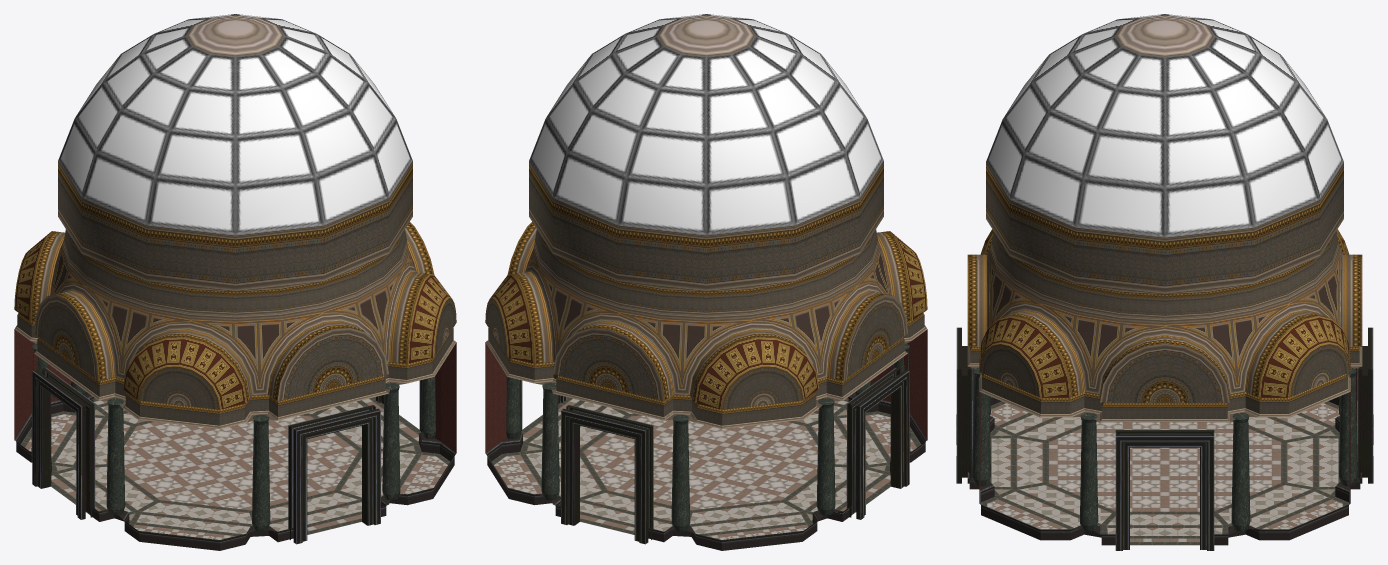
File: Room_Circular.dae
The picture shows the model from 3 angles, left to right: view 1: azimuth 30°, elevation 25°; view 2: azimuth 150°, elevation 25°; view 3: azimuth 270°, elevation 25°; orthographic projection.
Parts seen in each view (by area): view 1: Room_Circular (×11); view 2: Room_Circular (×11); view 3: Room_Circular (×10).
Boxes of the visible parts, x1,y1,x2,y2 form: Room_Circular (×11): (14, 14, 456, 550); Room_Circular (×11): (485, 14, 927, 550); Room_Circular (×10): (956, 14, 1373, 550).
Bounding box in the file's own units: 1963 × 2281 × 1963.
11 materials, 11 textured.
